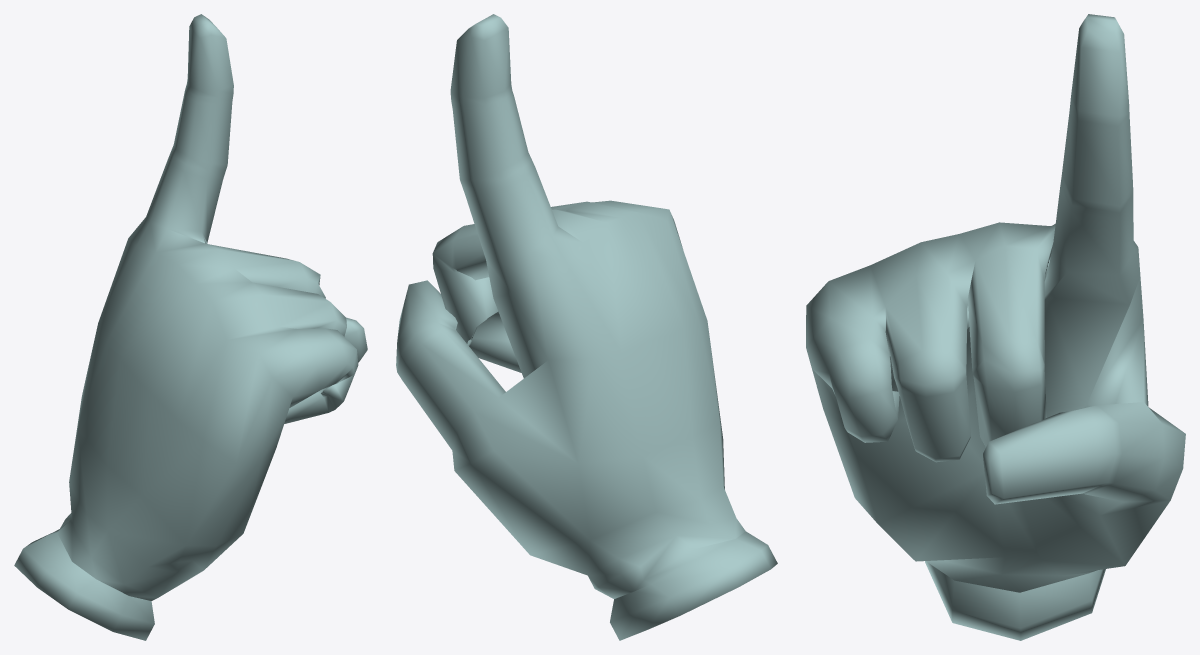
The model's file is hand 3d model.FBX.
3 renders of one model, left to right at view 1: azimuth 30°, elevation 25°; view 2: azimuth 150°, elevation 25°; view 3: azimuth 270°, elevation 25°, orthographic. The views are drawn at different scales.
Parts seen in each view (by area): view 1: test 2; view 2: test 2; view 3: test 2.
Boxes of the visible parts, <box> form: test 2: <box>14,14,367,640</box>; test 2: <box>396,14,777,640</box>; test 2: <box>806,14,1185,640</box>.
Bounding box in the file's own units: 53.14 × 84.87 × 42.69.
